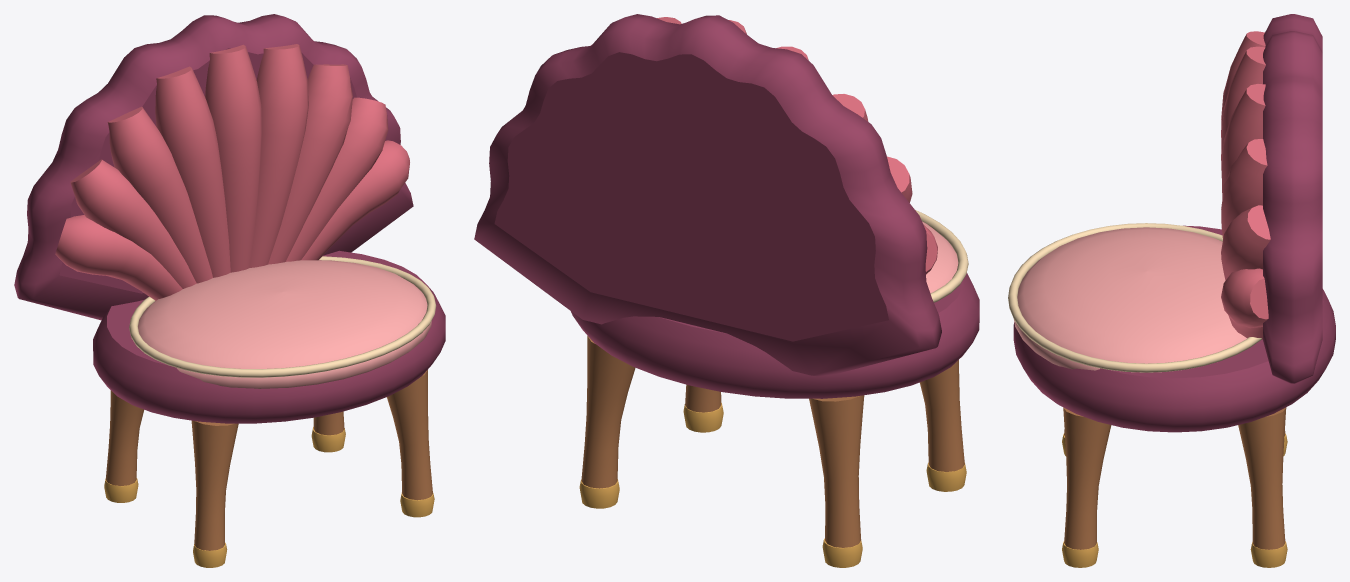
The model's file is atelier_shell_chair.glb.
3 renders of one model, left to right at view 1: azimuth 30°, elevation 25°; view 2: azimuth 150°, elevation 25°; view 3: azimuth 270°, elevation 25°, orthographic. The views are drawn at different scales.
Visible parts, largest first — view 1: Butaca concha.001; view 2: Butaca concha.001; view 3: Butaca concha.001.
Part boxes in pixels (box(x1,y1,x2,y2)): Butaca concha.001: box(14, 14, 445, 567); Butaca concha.001: box(474, 14, 979, 567); Butaca concha.001: box(1008, 14, 1335, 567).
Bounding box in the file's own units: 1.12 × 1.22 × 0.7641.
